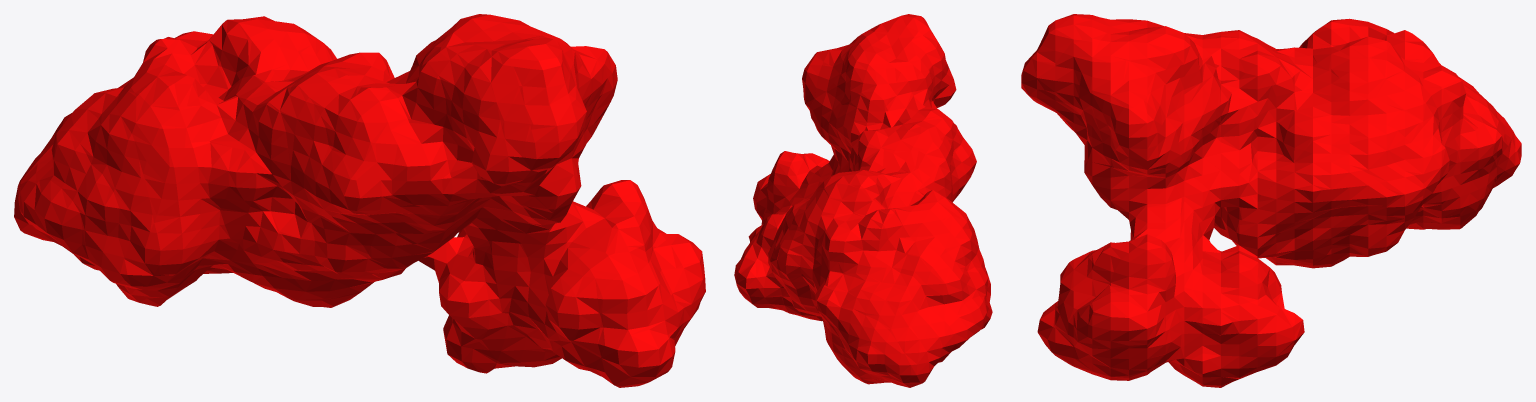
Rendered from dhaK_coarse.dae.
3 renders of one model, left to right at view 1: azimuth 30°, elevation 25°; view 2: azimuth 150°, elevation 25°; view 3: azimuth 270°, elevation 25°, orthographic. The views are drawn at different scales.
Parts seen in each view (by area): view 1: dhaK; view 2: dhaK; view 3: dhaK.
Boxes of the visible parts, left/top/right/bottom form: dhaK: left=14, top=14, right=705, bottom=387; dhaK: left=734, top=14, right=992, bottom=387; dhaK: left=1021, top=14, right=1521, bottom=387.
Size of the model in its own units: 115 by 88.51 by 122.
